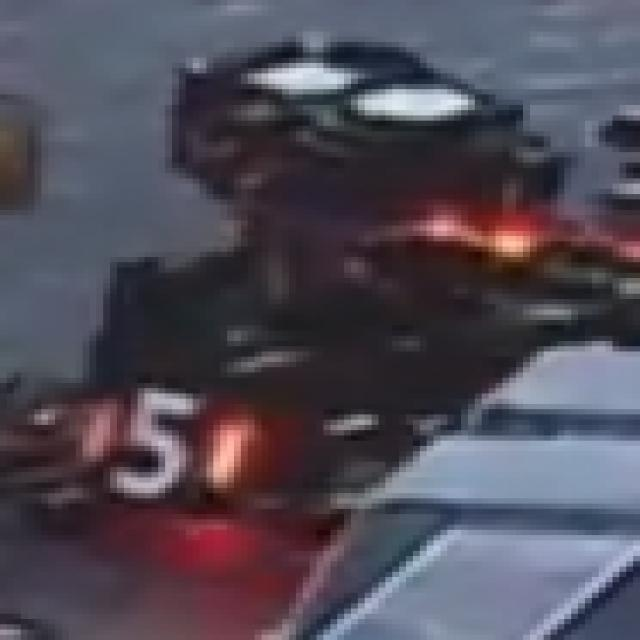R5: (89, 383, 241, 493)
